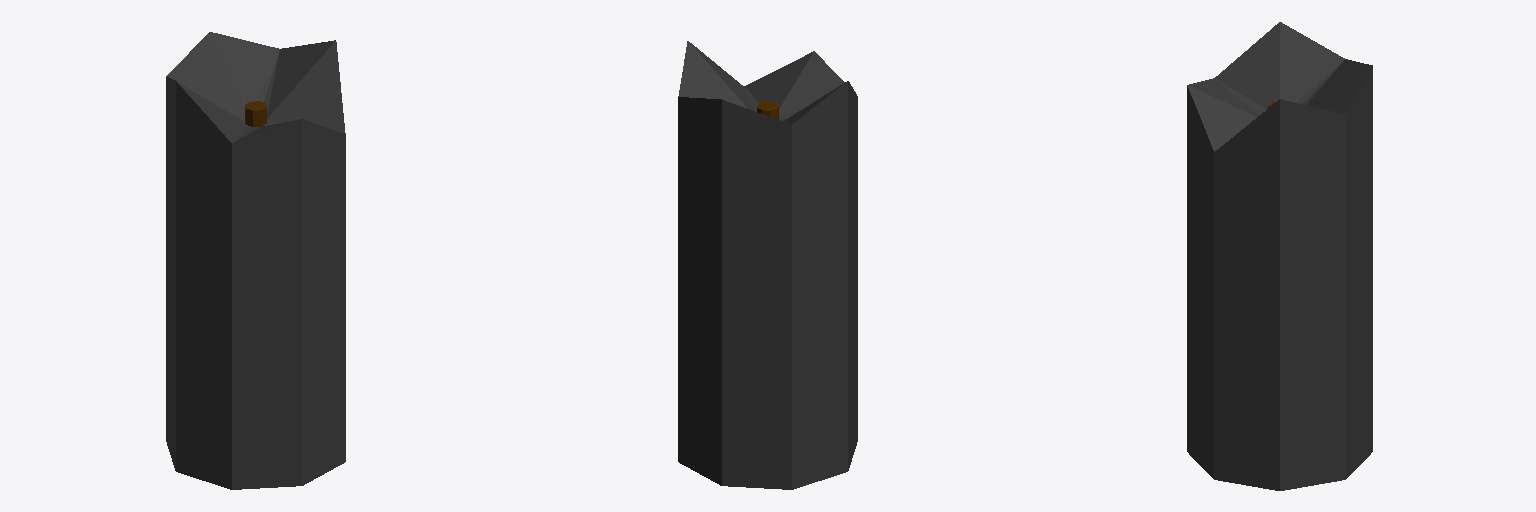
The model's file is Candle1.obj.
3 renders of one model, left to right at view 1: azimuth 30°, elevation 25°; view 2: azimuth 150°, elevation 25°; view 3: azimuth 270°, elevation 25°, orthographic.
Visible parts, largest first — view 1: Candle1_Cube.030; view 2: Candle1_Cube.030; view 3: Candle1_Cube.030.
Part boxes in pixels (x1,y1,x2,y2): Candle1_Cube.030: (166, 32, 345, 489); Candle1_Cube.030: (678, 41, 857, 489); Candle1_Cube.030: (1187, 22, 1372, 490).
Size of the model in its own units: 0.1007 by 0.2349 by 0.1007.